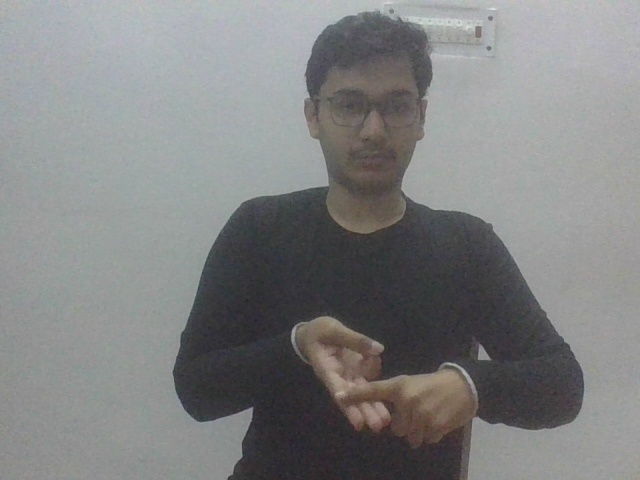E: (288, 313, 480, 455)
